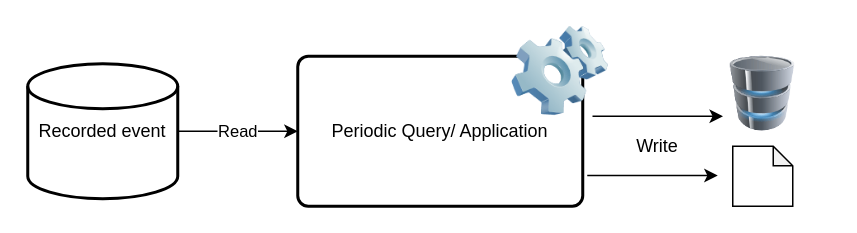
Image size: 857x233. Some labels were removed from this diagram. Here are the shapes that lost their labels. From the top down, the box of each, then its label:
(724, 56, 800, 130): Database/ HDFS
(731, 145, 793, 206): Report
